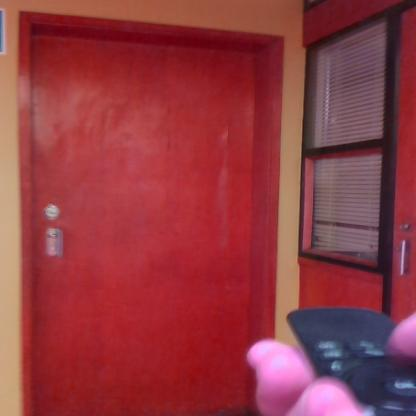door: (28, 30, 254, 416)
knob: (48, 232, 59, 240)
